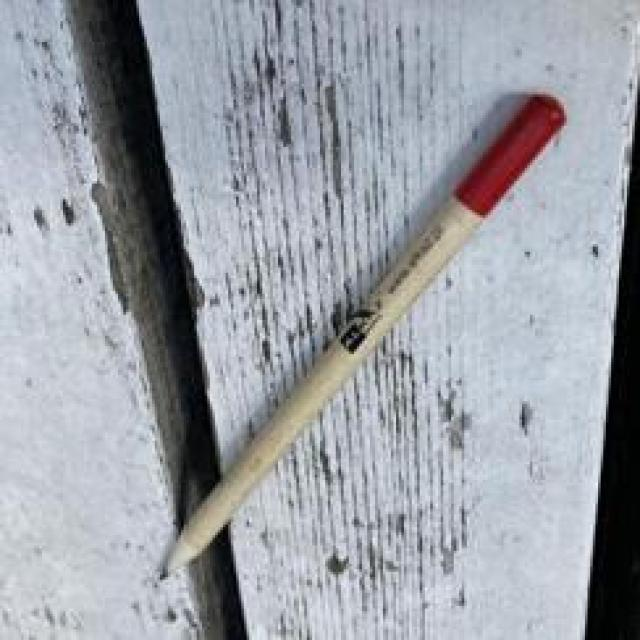pencil: (163, 97, 566, 577)
